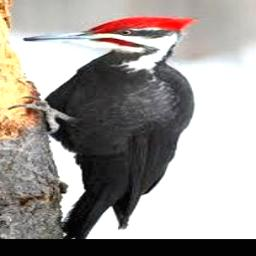Woodpecker: (9, 17, 193, 238)
